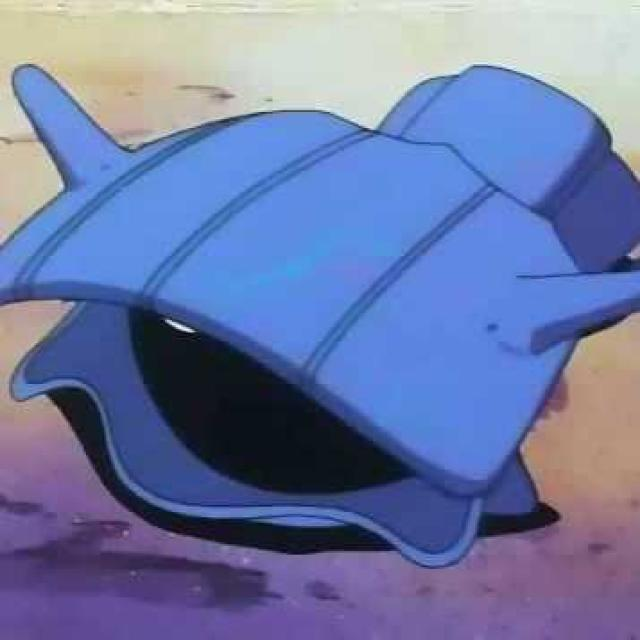Shellder: (4, 69, 588, 521)
